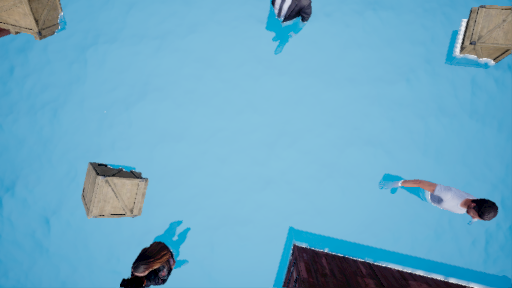person: (380, 168, 506, 240), (112, 221, 195, 287)
